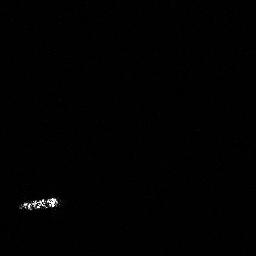ship: (15, 193, 61, 214)
